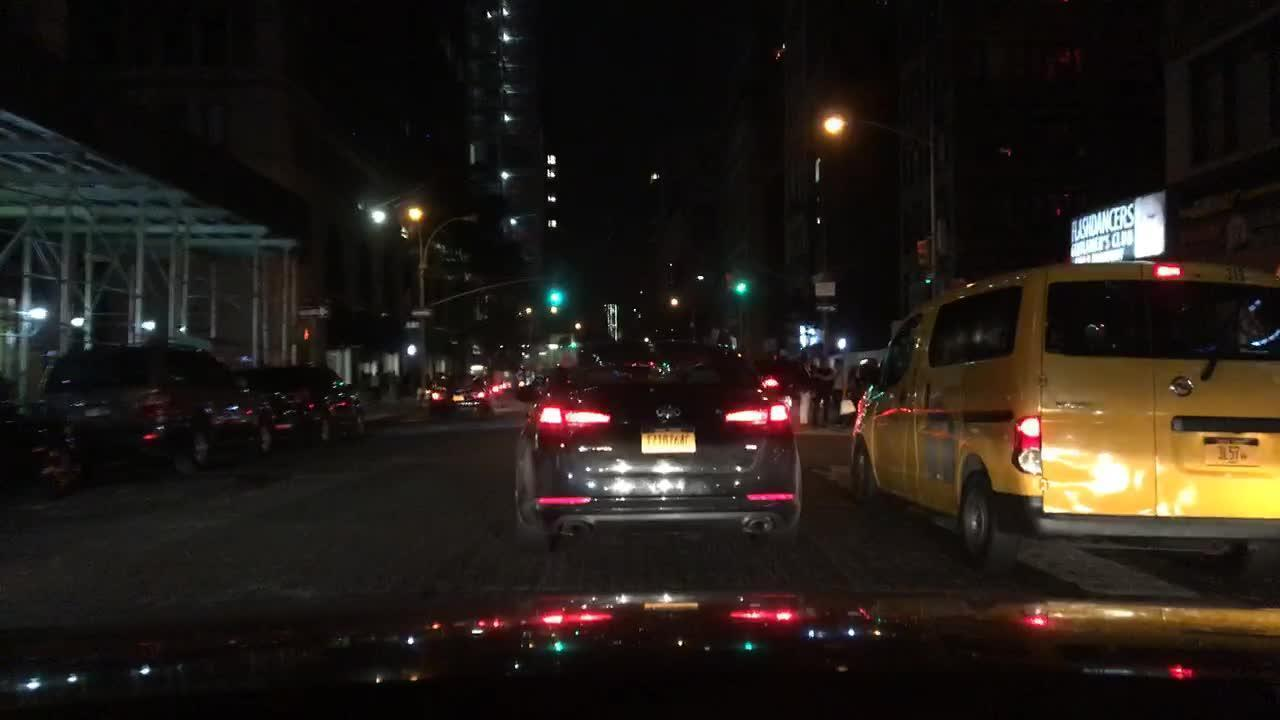Nissan: (1168, 373, 1196, 398)
kia: (650, 404, 688, 421)
